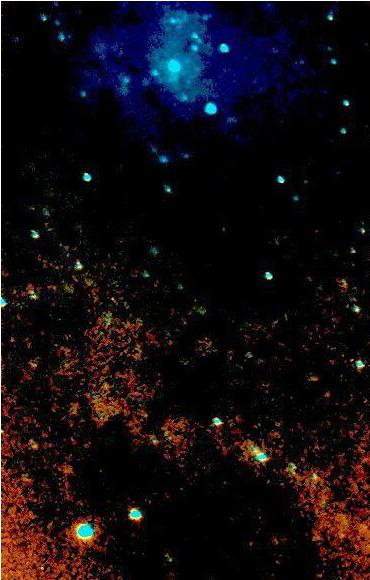star: (21, 429, 51, 459)
